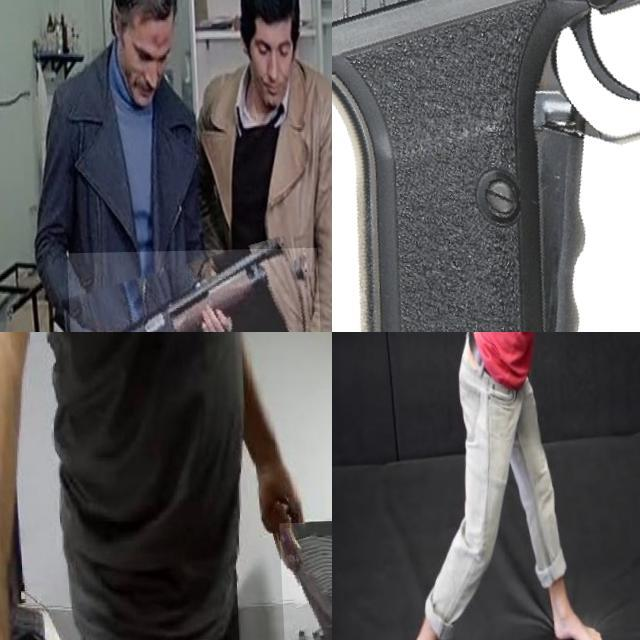-: (275, 524, 332, 640)
gun-knife-thesis - v11 Yolov5 augmented: (332, 0, 640, 332), (63, 250, 320, 332)
